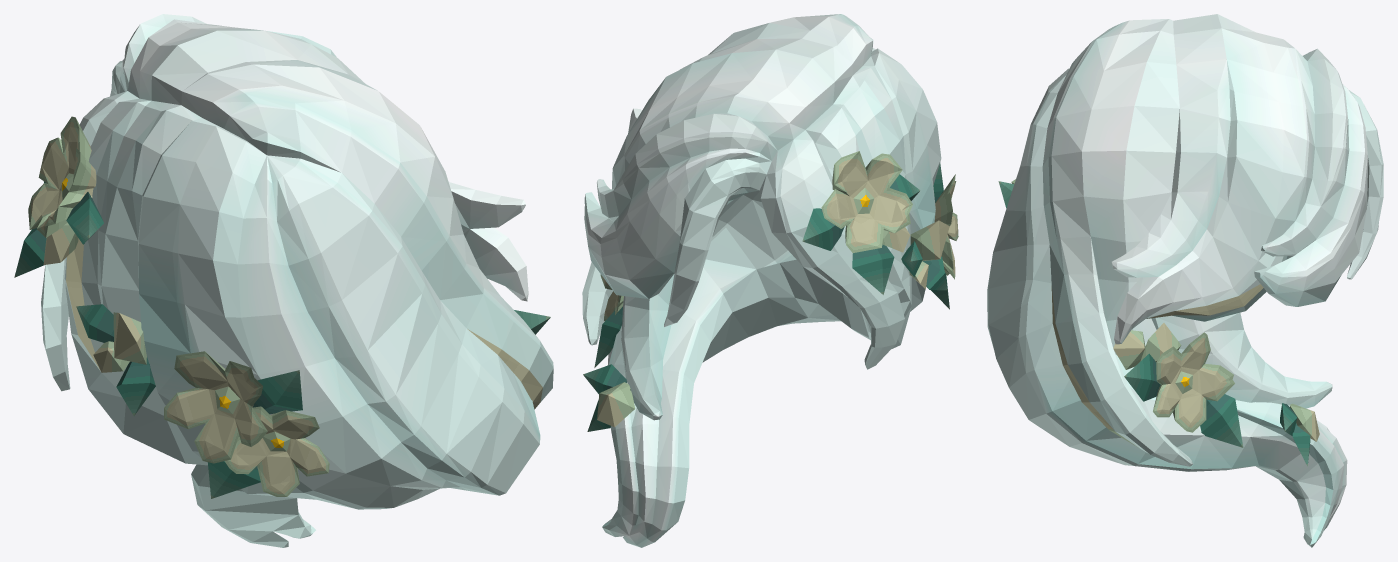
File: CharSkyKid_Hair_AP31AlmondBlossom.glb
3 views of the same model, side by side, from view 1: azimuth 30°, elevation 25°; view 2: azimuth 150°, elevation 25°; view 3: azimuth 270°, elevation 25° (orthographic). The views are drawn at different scales.
Visible parts, largest first — view 1: CharSkyKid_Hair_AP31AlmondBlossom; view 2: CharSkyKid_Hair_AP31AlmondBlossom; view 3: CharSkyKid_Hair_AP31AlmondBlossom.
Boxes of the visible parts, bbox=[...] form: CharSkyKid_Hair_AP31AlmondBlossom: bbox=[14, 14, 553, 547]; CharSkyKid_Hair_AP31AlmondBlossom: bbox=[582, 14, 958, 547]; CharSkyKid_Hair_AP31AlmondBlossom: bbox=[987, 14, 1383, 547].
Size of the model in its own units: 3.78 by 4.78 by 3.69.
1 material, 1 textured.
